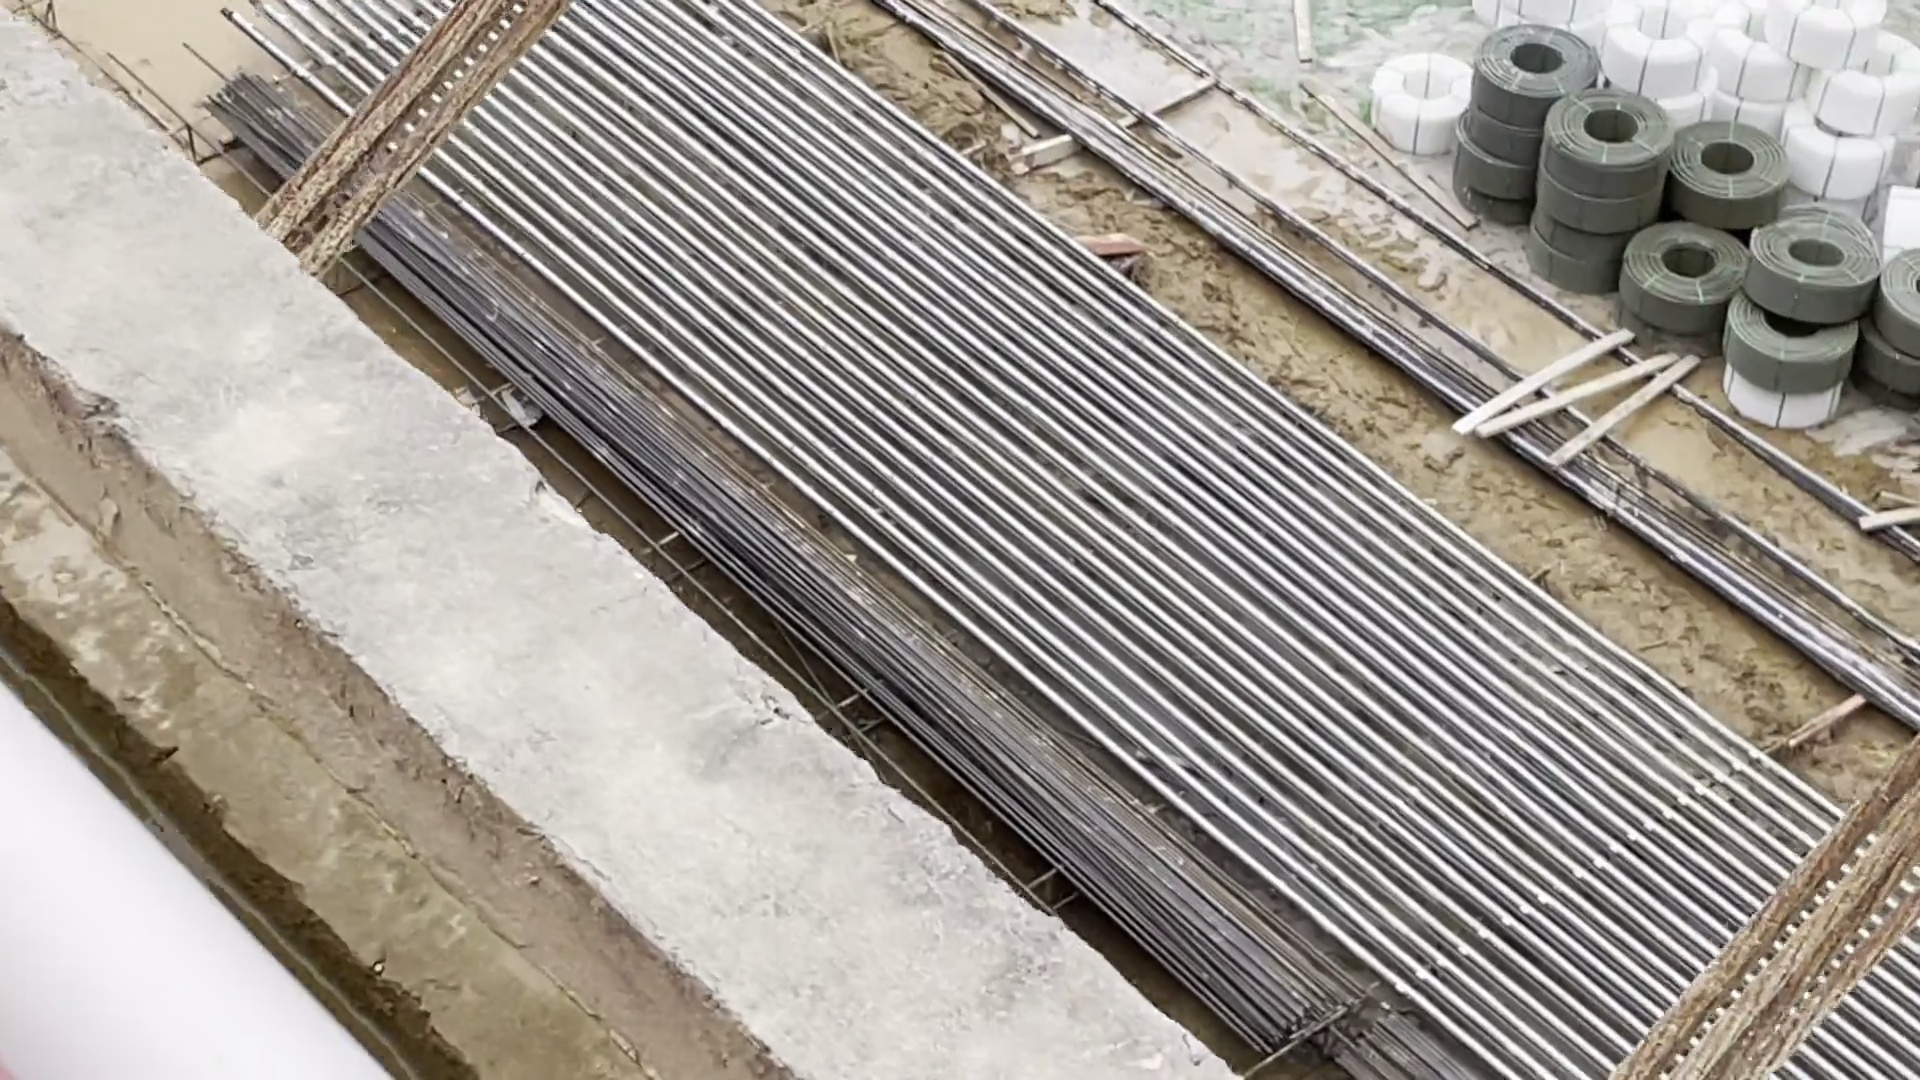rebar: (233, 69, 804, 572), (807, 547, 1354, 1017)
